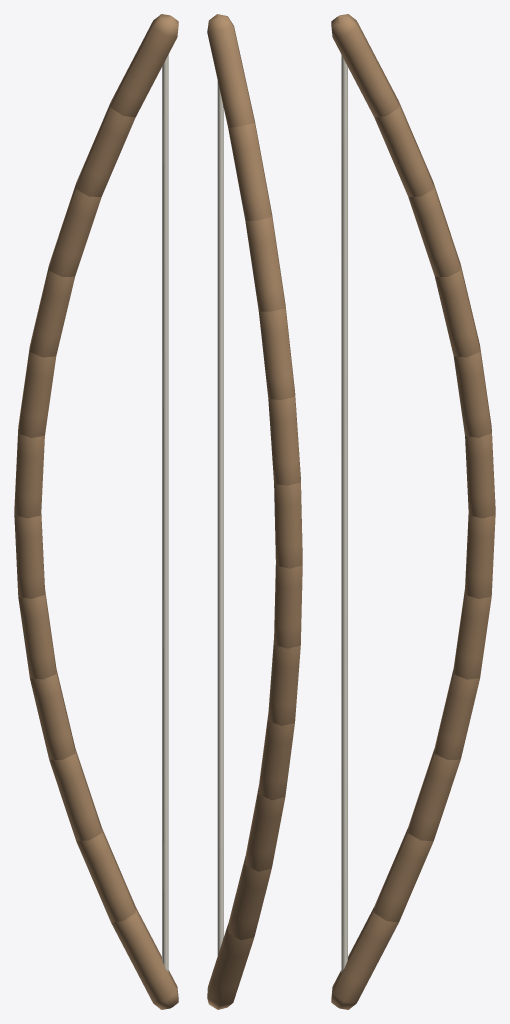
File: Bow.glb
3 renders of one model, left to right at view 1: azimuth 90°, elevation 25°; view 2: azimuth 210°, elevation 25°; view 3: azimuth 270°, elevation 25°, orthographic.
Visible parts, largest first — view 1: Bow; view 2: Bow; view 3: Bow.
Boxes of the visible parts, bbox=[...] form: Bow: bbox=[14, 14, 178, 1009]; Bow: bbox=[207, 14, 302, 1009]; Bow: bbox=[331, 14, 495, 1009].
Size of the model in its own units: 0.036 by 1.27 by 0.191.
